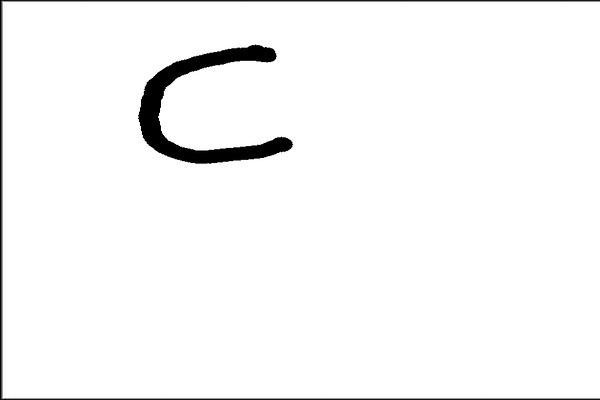C: (134, 33, 300, 168)
